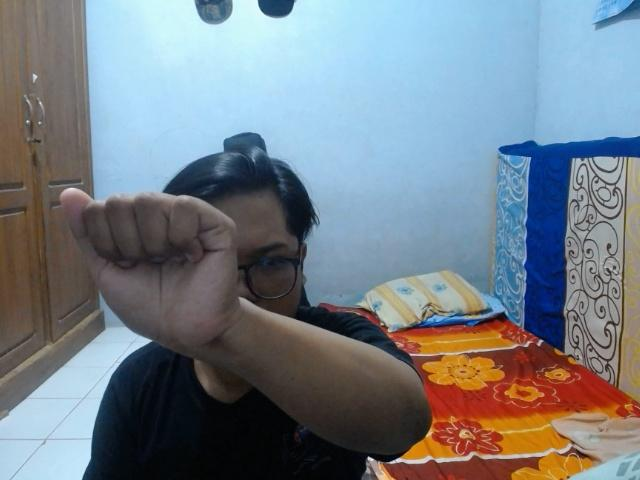Grab: (56, 183, 247, 362)
